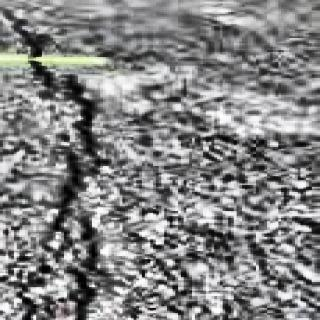alligator-crack: (6, 22, 145, 313)
